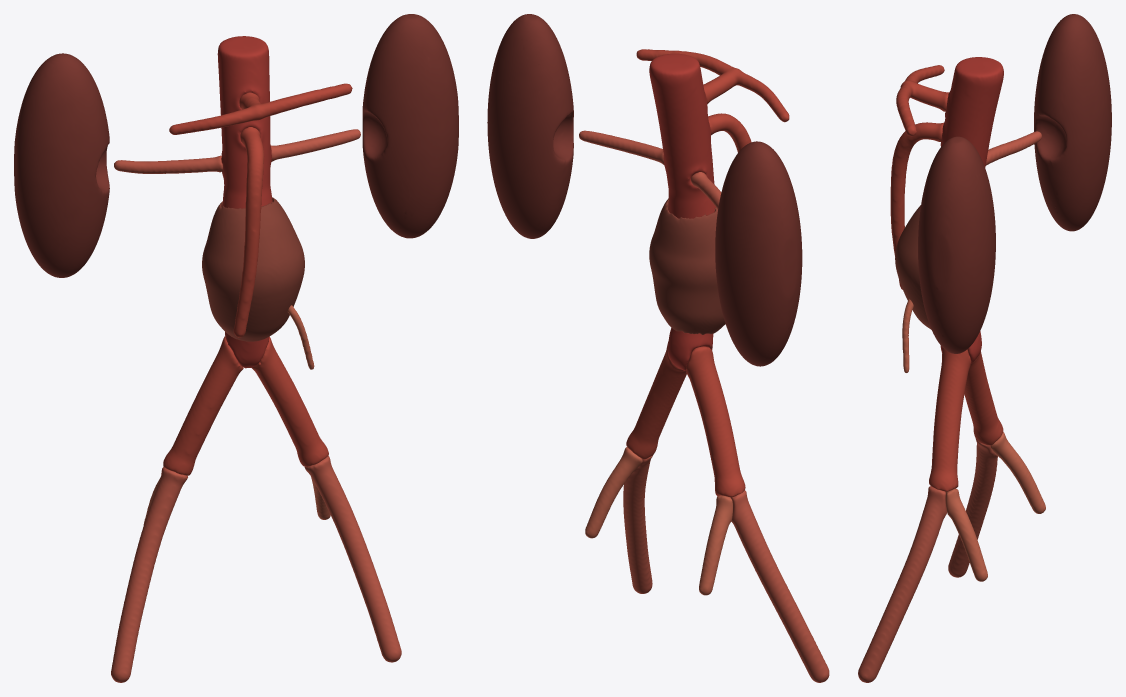
File: artery_aaa_small.glb
3 renders of one model, left to right at view 1: azimuth 30°, elevation 25°; view 2: azimuth 150°, elevation 25°; view 3: azimuth 270°, elevation 25°, orthographic. The views are drawn at different scales.
Visible parts, largest first — view 1: kidneys, aneurysm_sac, external_iliacs, common_iliacs, aorta, superior_mesenteric, renal_arteries, celiac_trunk; view 2: kidneys, aorta, aneurysm_sac, external_iliacs, common_iliacs, internal_iliacs, celiac_trunk, renal_arteries, superior_mesenteric; view 3: kidneys, external_iliacs, common_iliacs, aorta, internal_iliacs, superior_mesenteric, aneurysm_sac, celiac_trunk, renal_arteries, inferior_mesenteric.
Boxes of the visible parts, <box> form: kidneys: <box>14,14,458,277</box>; aneurysm_sac: <box>202,197,304,341</box>; external_iliacs: <box>111,455,401,682</box>; common_iliacs: <box>163,336,328,475</box>; aorta: <box>217,36,272,368</box>; superior_mesenteric: <box>233,127,263,337</box>; renal_arteries: <box>114,129,360,173</box>; celiac_trunk: <box>169,83,352,134</box>; kidneys: <box>487,14,802,366</box>; aorta: <box>649,53,715,370</box>; aneurysm_sac: <box>649,198,725,334</box>; external_iliacs: <box>623,455,829,682</box>; common_iliacs: <box>626,341,745,497</box>; internal_iliacs: <box>585,447,732,595</box>; celiac_trunk: <box>636,49,789,122</box>; renal_arteries: <box>579,130,721,209</box>; superior_mesenteric: <box>708,113,751,152</box>; kidneys: <box>918,14,1111,353</box>; external_iliacs: <box>858,438,997,682</box>; common_iliacs: <box>929,349,1003,491</box>; aorta: <box>940,57,1003,363</box>; internal_iliacs: <box>945,432,1045,581</box>; superior_mesenteric: <box>890,122,943,289</box>; aneurysm_sac: <box>895,205,931,329</box>; celiac_trunk: <box>896,65,949,136</box>; renal_arteries: <box>985,131,1041,165</box>; inferior_mesenteric: <box>902,299,913,372</box>.
Size of the model in its own units: 17.44 by 26.79 by 10.72.
